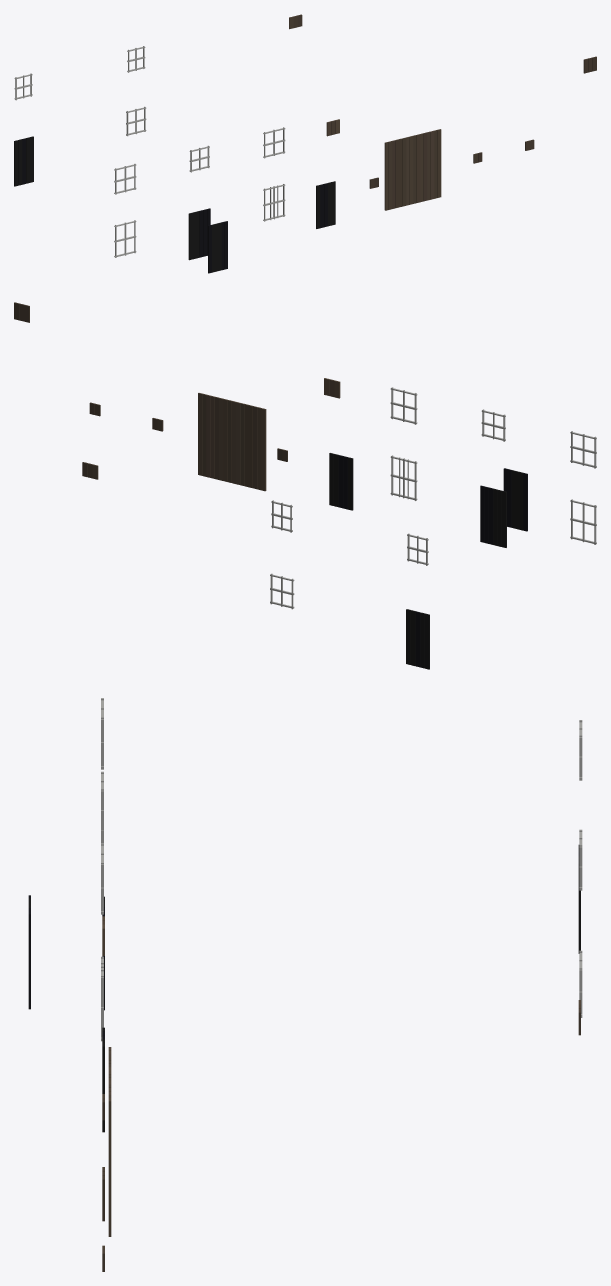
Rendered from SM_Bld_061_Wood.glb.
The picture shows the model from 3 angles, top to bottom: view 1: azimuth 30°, elevation 25°; view 2: azimuth 150°, elevation 25°; view 3: azimuth 270°, elevation 25°; orthographic projection. The views are drawn at different scales.
Visible parts, largest first — view 1: SM_Bld_061_Wood; view 2: SM_Bld_061_Wood; view 3: SM_Bld_061_Wood.
Part boxes in pixels (x1,y1,x2,y2): SM_Bld_061_Wood: (14, 14, 596, 273); SM_Bld_061_Wood: (14, 302, 596, 669); SM_Bld_061_Wood: (28, 698, 582, 1271).
Size of the model in its own units: 22.35 by 4.85 by 11.12.
